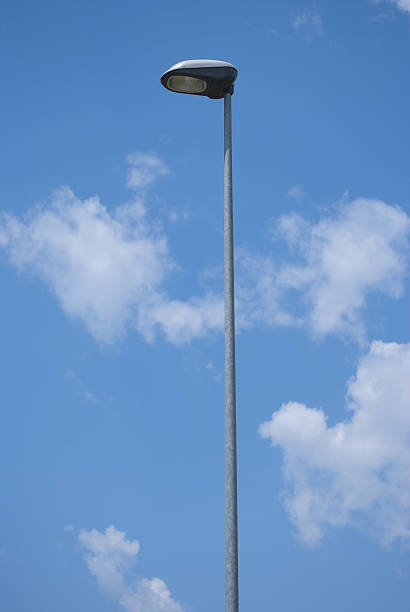light_pole: (220, 112, 244, 612)
